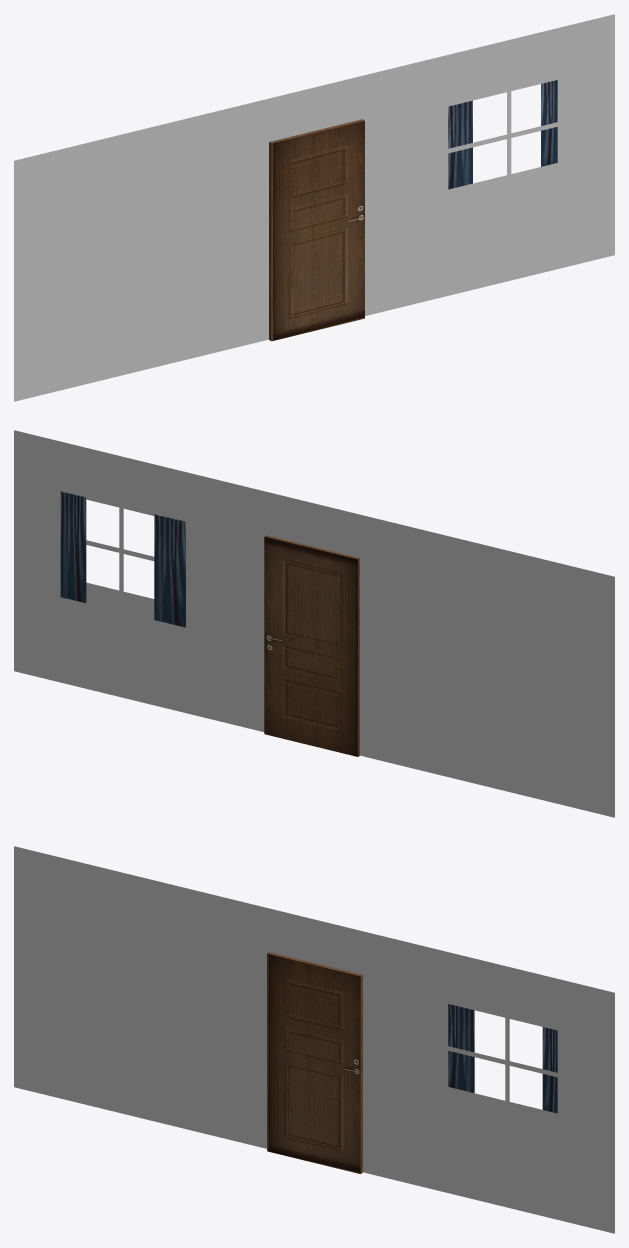
File: WindowDoorWall.fbx
The picture shows the model from 3 angles, top to bottom: view 1: azimuth 30°, elevation 25°; view 2: azimuth 150°, elevation 25°; view 3: azimuth 330°, elevation 25°; orthographic projection.
Visible parts, largest first — view 1: Plane, Cube, Plane.003, Plane.004, Plane.001, Plane.002; view 2: Plane, Cube, Plane.003, Plane.004; view 3: Plane, Cube, Plane.003, Plane.004, Plane.001, Plane.002.
Boxes of the visible parts, x1,y1,x2,y2 form: Plane: (14, 14, 614, 401); Cube: (269, 119, 364, 341); Plane.003: (448, 100, 472, 189); Plane.004: (541, 80, 557, 166); Plane.001: (437, 119, 569, 155); Plane.002: (507, 80, 511, 196); Plane: (14, 430, 614, 817); Cube: (264, 535, 359, 756); Plane.003: (154, 514, 185, 627); Plane.004: (60, 491, 86, 603); Plane: (14, 846, 614, 1233); Cube: (267, 952, 362, 1173); Plane.003: (448, 1004, 474, 1093); Plane.004: (542, 1027, 557, 1113); Plane.001: (436, 1043, 567, 1079); Plane.002: (505, 1007, 509, 1122).
Bounding box in the file's own units: 1094 × 420 × 12.1.
